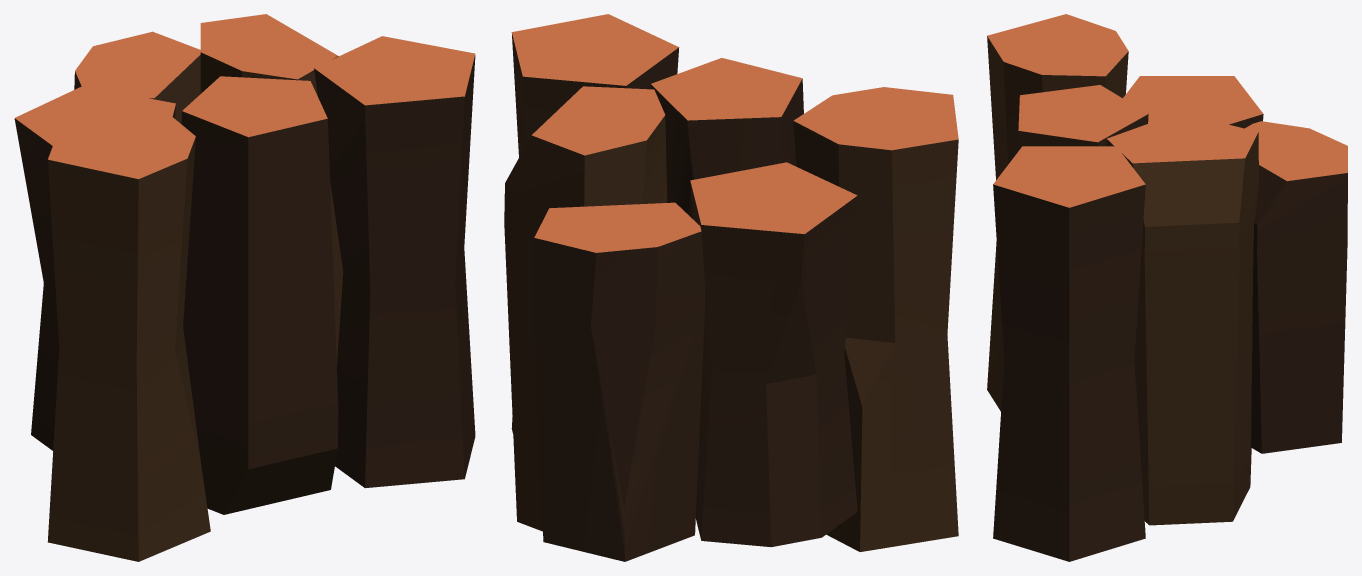
The model's file is Logs.FBX.
The picture shows the model from 3 angles, left to right: view 1: azimuth 30°, elevation 25°; view 2: azimuth 150°, elevation 25°; view 3: azimuth 270°, elevation 25°; orthographic projection. The views are drawn at different scales.
Visible parts, largest first — view 1: Logs; view 2: Logs; view 3: Logs.
Boxes of the visible parts, left/top/right/bottom form: Logs: left=14, top=14, right=475, bottom=561; Logs: left=504, top=14, right=958, bottom=561; Logs: left=987, top=14, right=1347, bottom=561.
Size of the model in its own units: 1.51 by 1.29 by 1.19.
